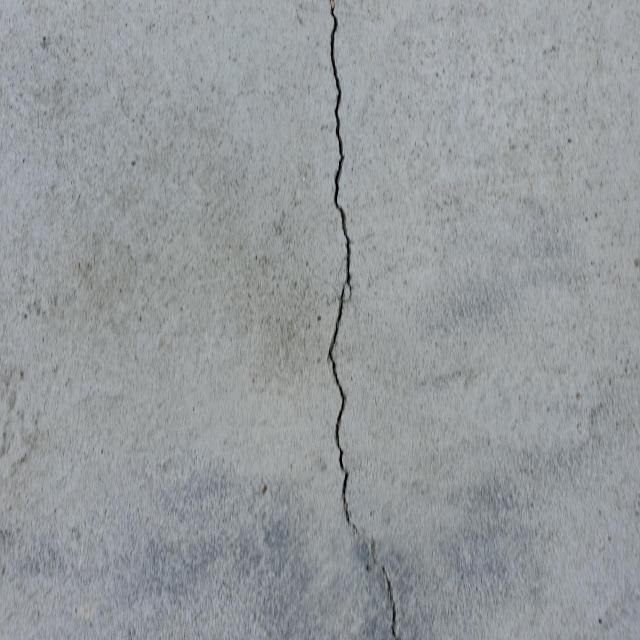SurfaceCrack: (280, 1, 420, 640)
